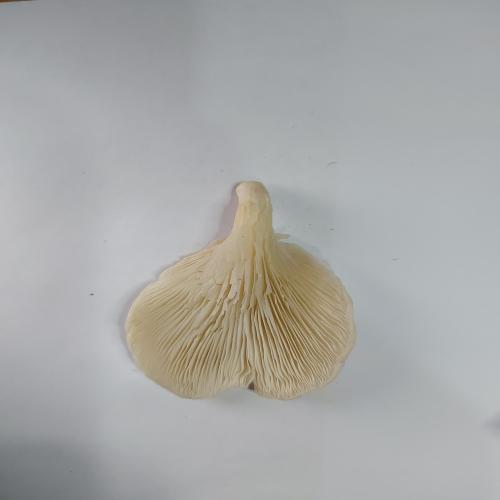Oyster Mushroom: (124, 179, 357, 401)
